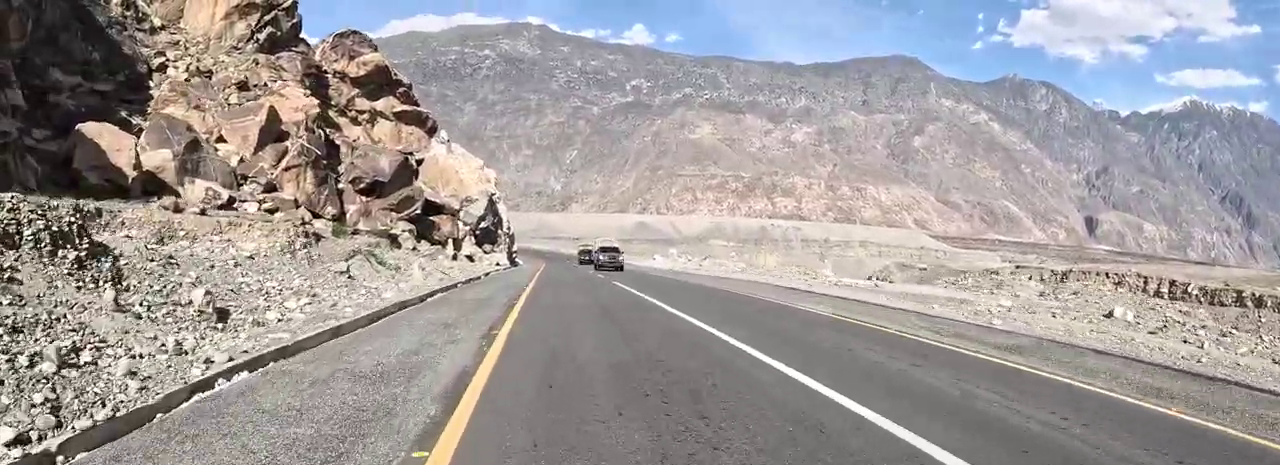left: (524, 276, 1026, 465)
